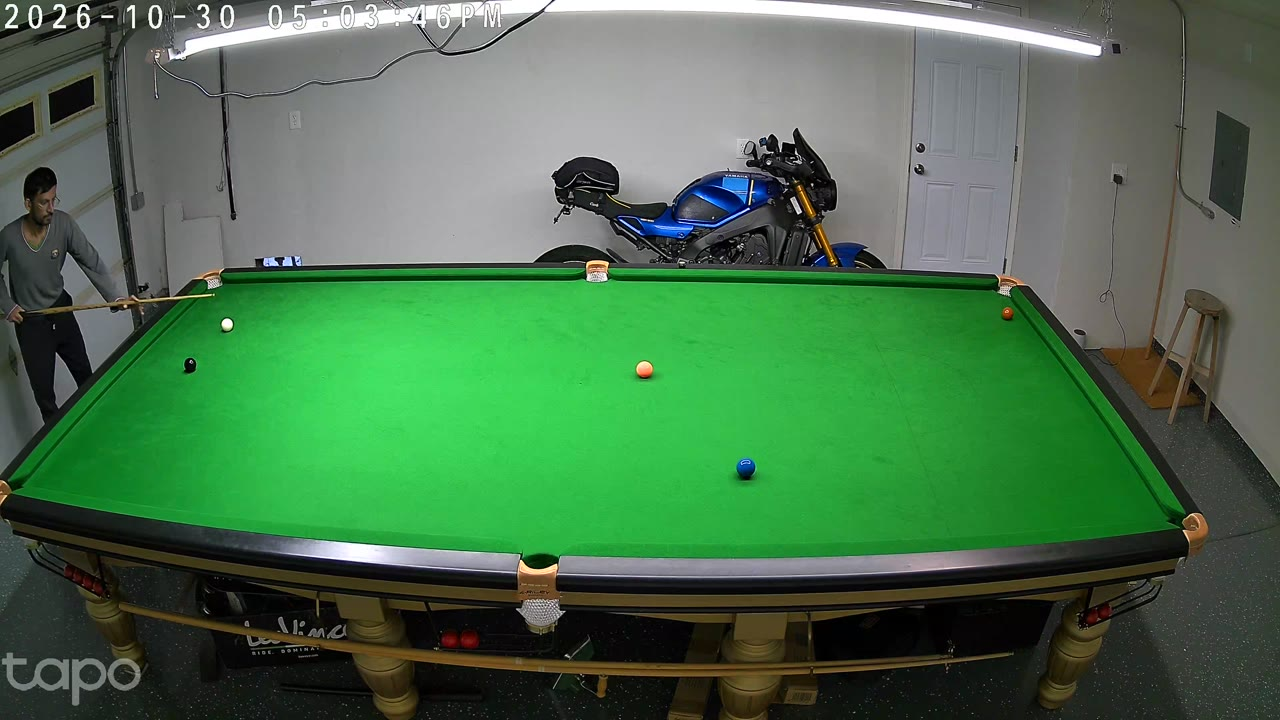black: (184, 356, 196, 375)
blue: (736, 456, 756, 482)
brown: (1002, 305, 1013, 322)
pink: (636, 360, 653, 381)
white: (221, 316, 233, 334)
